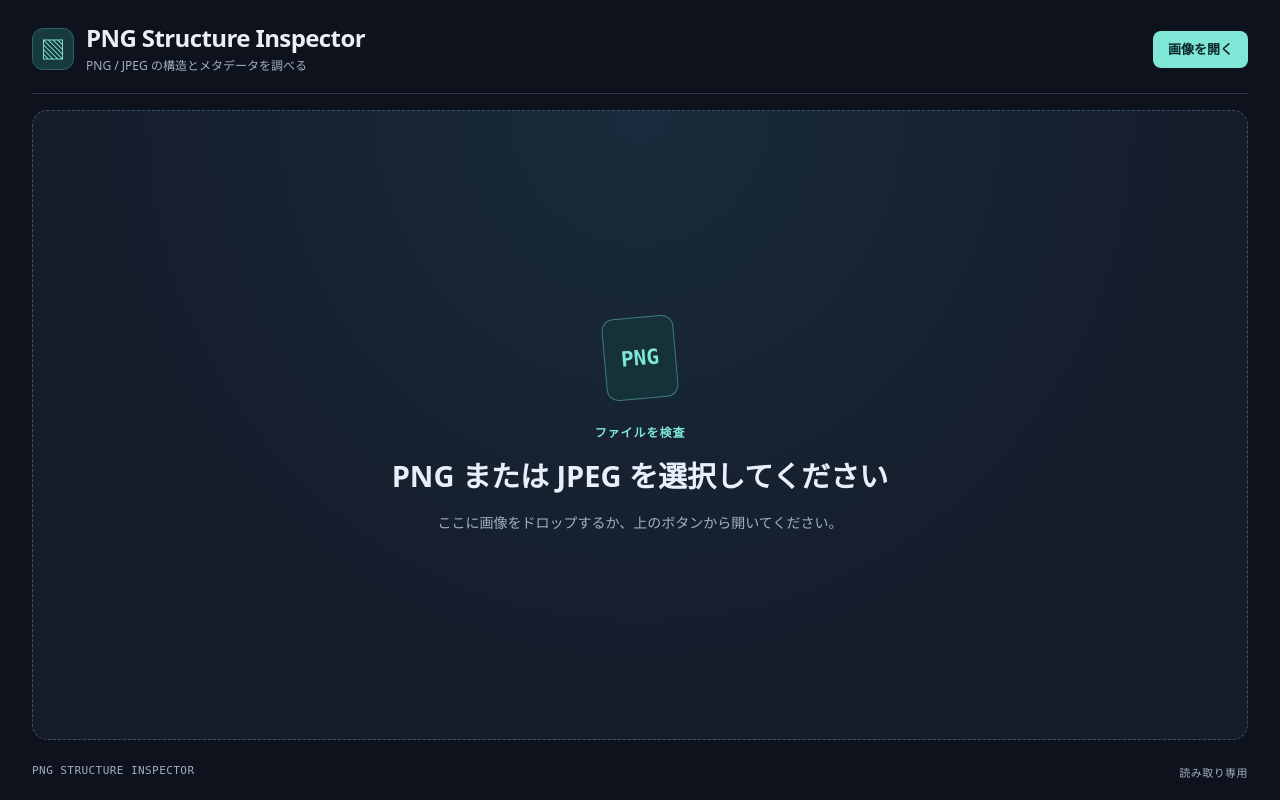
Test: PNG inspection › reports an open failure and allows retry
Click the button "画像を開く". click: (1200, 49)
box: [1153,31,1248,68]
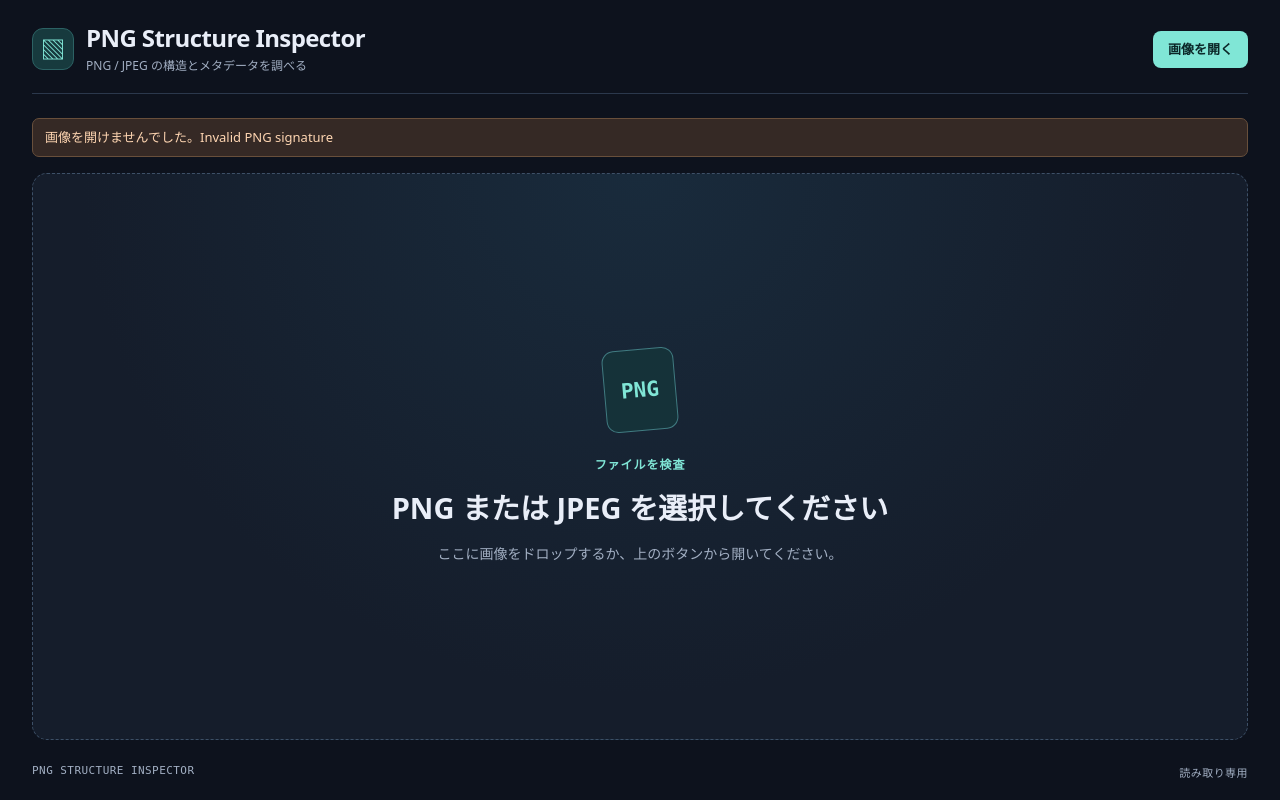
Expected: the message shows "Invalid PNG signature", [200,128,333,146]
Click the button "画像を開く". click: (1200, 49)
box: [1153,31,1248,68]
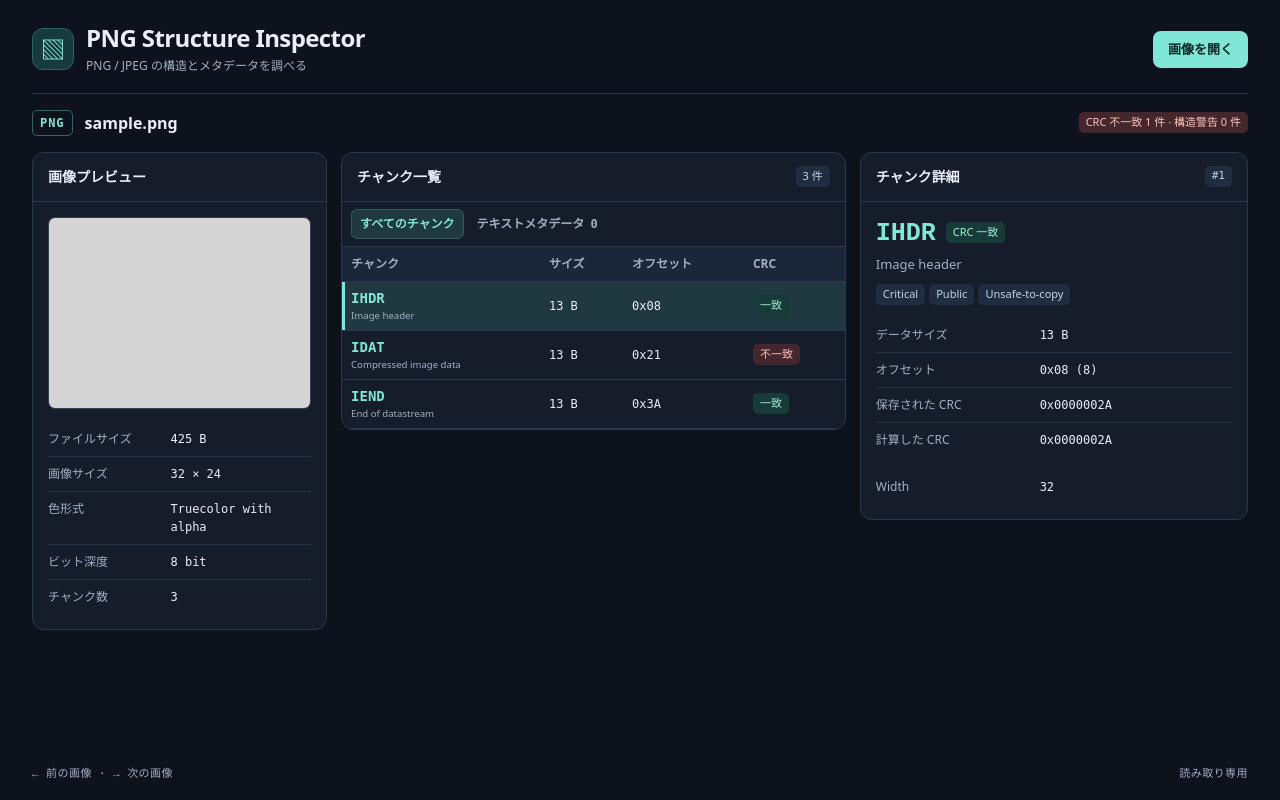
Expected: the text "sample.png" is shown, [85,111,178,135]
Expected: the message "画像を開けませんでした。Invalid PNG signature" is gone
